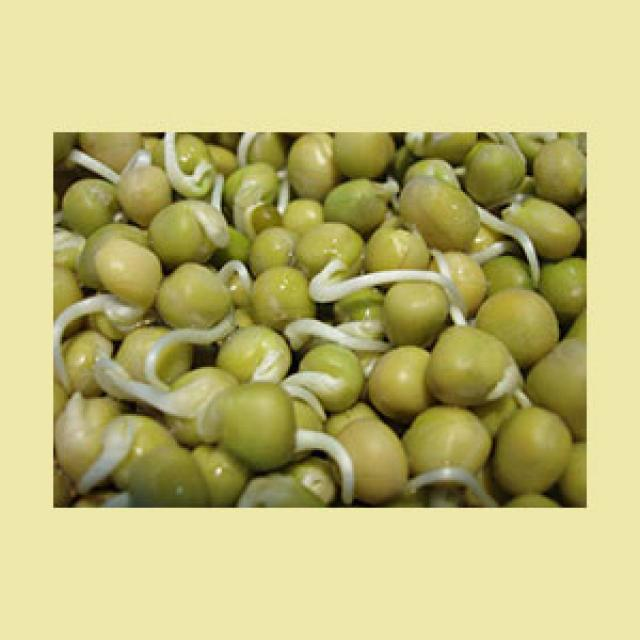pea: (51, 132, 589, 506)
